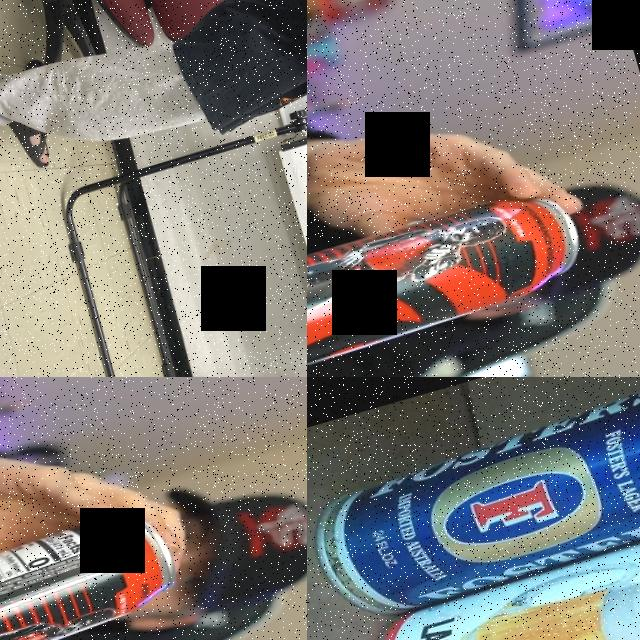can: (307, 377, 640, 631), (307, 174, 594, 377), (356, 494, 640, 640), (0, 504, 194, 640)
